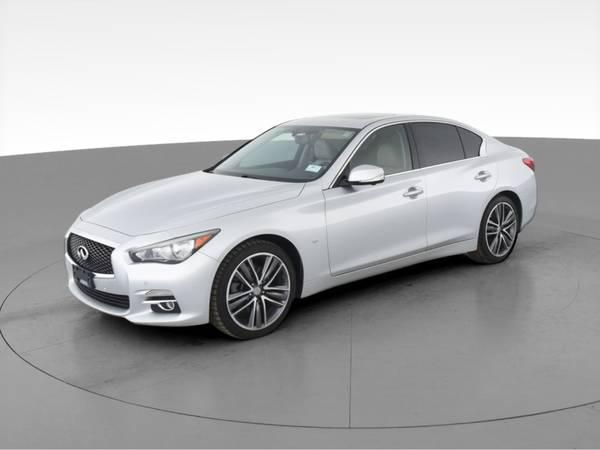Front_Bumper: (64, 250, 219, 329)
Front_Fender: (199, 175, 334, 296)
Front_Left_Door: (323, 168, 427, 284)
Front_Left_Window: (325, 124, 415, 190)
Front_Windshield: (207, 125, 360, 181)
Grille: (63, 232, 117, 277)
Hood: (68, 170, 306, 252)
Left_Headlight: (128, 228, 220, 265)
Left_Taillight: (525, 156, 536, 166)
Rear_Fender: (493, 155, 537, 225)
Rear_Left_Door: (420, 158, 498, 259)
Rear_Left_Window: (406, 123, 484, 173)
Roof: (275, 113, 525, 189)
Wheel: (215, 242, 299, 342), (480, 196, 522, 260)
